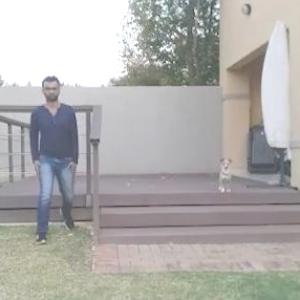follow: (28, 74, 79, 235)
